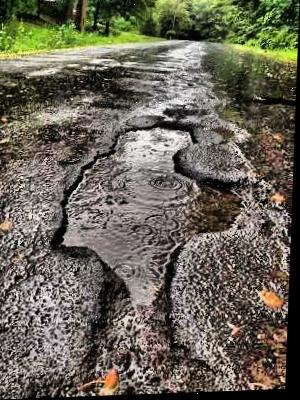pothole: (47, 118, 249, 306)
